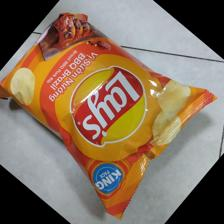Lays: (2, 11, 219, 223)
